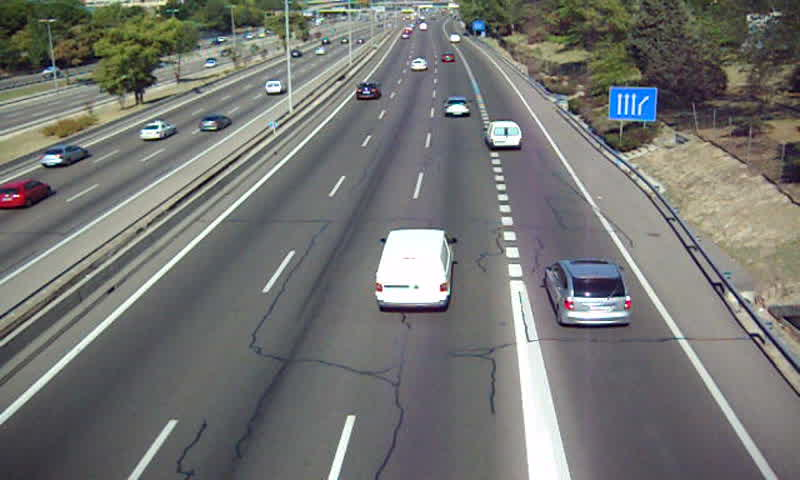car: (545, 258, 634, 327), (442, 96, 474, 118), (355, 82, 380, 101), (409, 56, 428, 72), (440, 52, 457, 64)
van: (375, 229, 451, 312), (486, 122, 522, 149)
